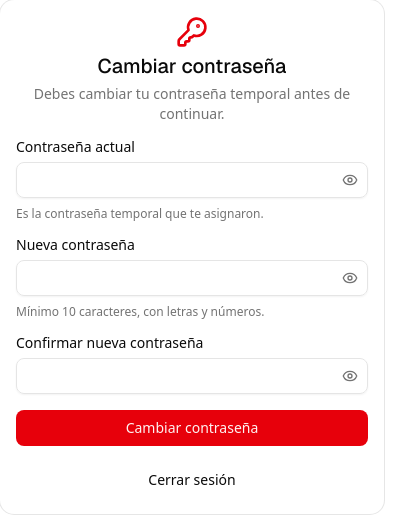
Test case: ChangePasswordForm (RN-014, FR-009, FR-010) › rechaza repetir la contraseña actual
Type "Temporal123" into the password field labelled "Contraseña actual" at (192, 180), box [16,162,368,198]
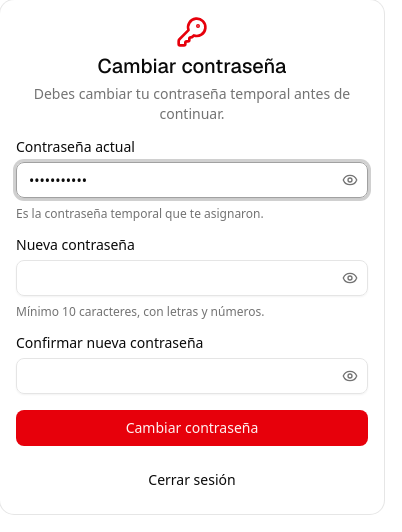
Type "Temporal123" into the password field labelled "Nueva contraseña" at (192, 278), box [16,260,368,296]
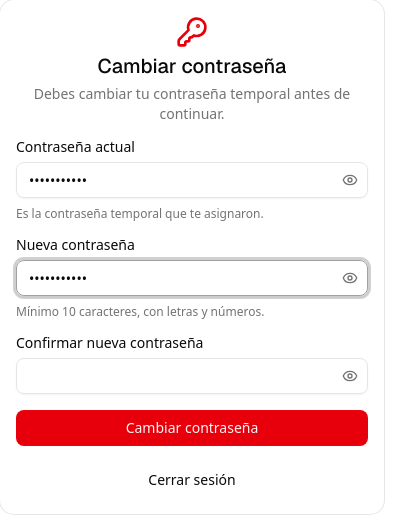
Type "Temporal123" into the password field labelled "Confirmar nueva contraseña" at (192, 376), box [16,358,368,394]
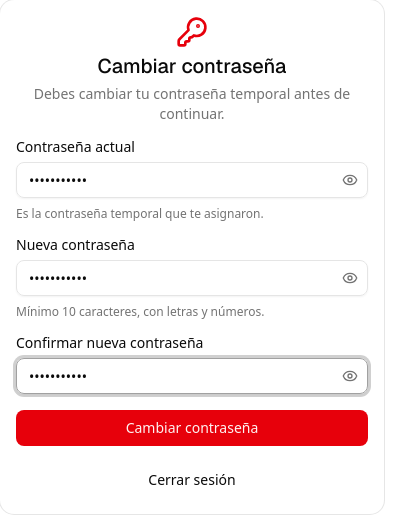
Click the button "Cambiar contraseña" at (192, 428), box [16,410,368,446]
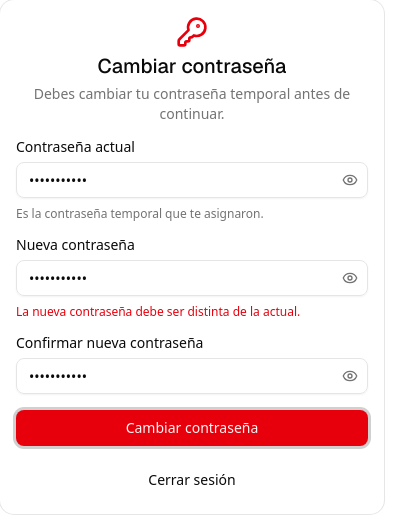
Check: the text "La nueva contraseña debe ser distinta de la actual." is shown, box [16,303,300,320]
